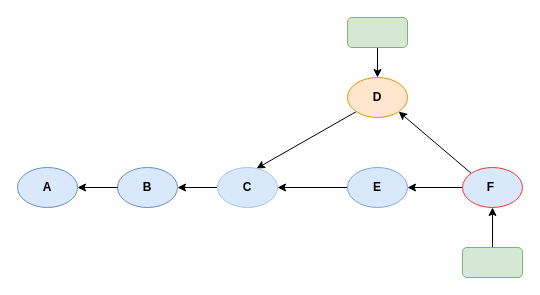
This 540x295 diagram has some shape labels left out. The shapes that lost their labels are listed below. From the top down, each one's box as (x1, y1, x2, y2) in pixels, then its label:
(346, 16, 408, 48): feature
(462, 246, 522, 278): main
